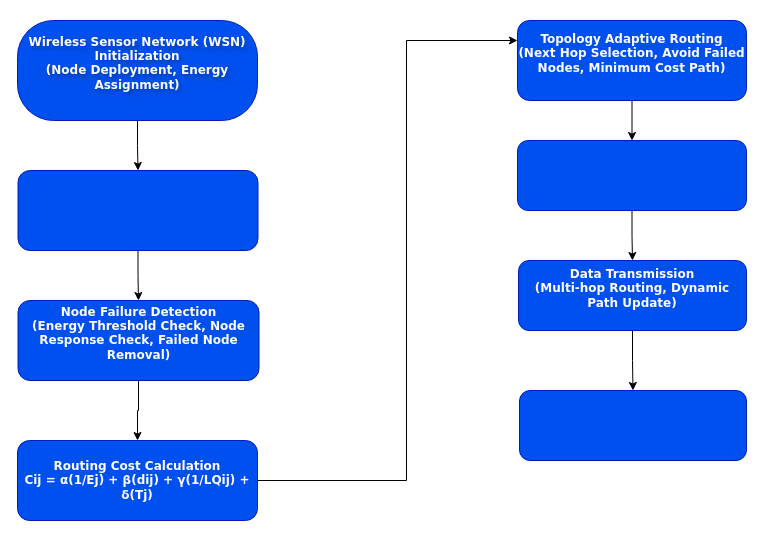
The diagram is 764 pixels wide and 548 high, and some of its shapes have lost their labels. The centre of each missing label's shape, as x and y in pixels:
Energy-Aware Load Balancing (Traffic Distribution, Prevent Node Overuse): point (631, 175)
Node Monitoring (Residual Energy, Link Quality, Neighbor Update): point (137, 210)
Performance Evaluation (PDR, Delay, Throughput, Energy Consumption): point (632, 425)
